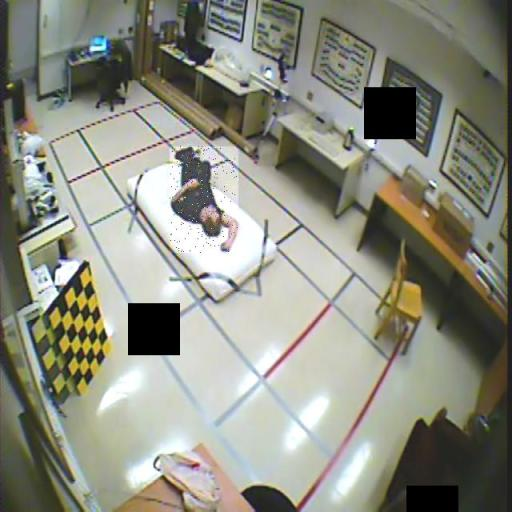Fall: (170, 146, 239, 253)
